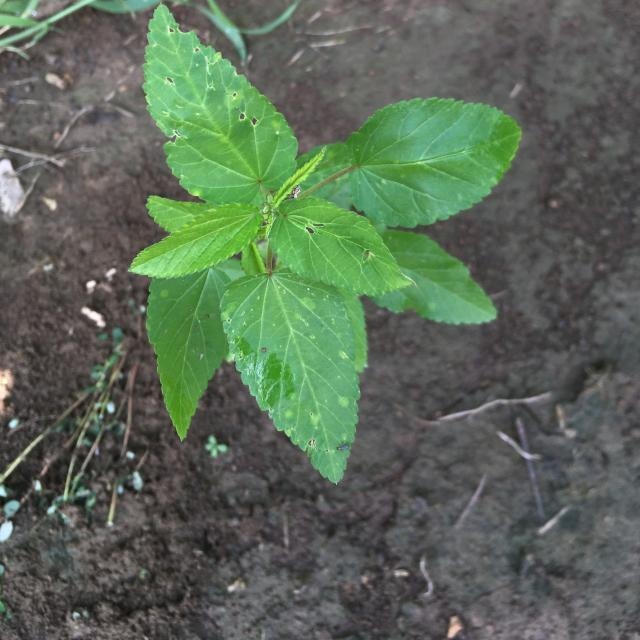PricklySida: (128, 4, 522, 484)
